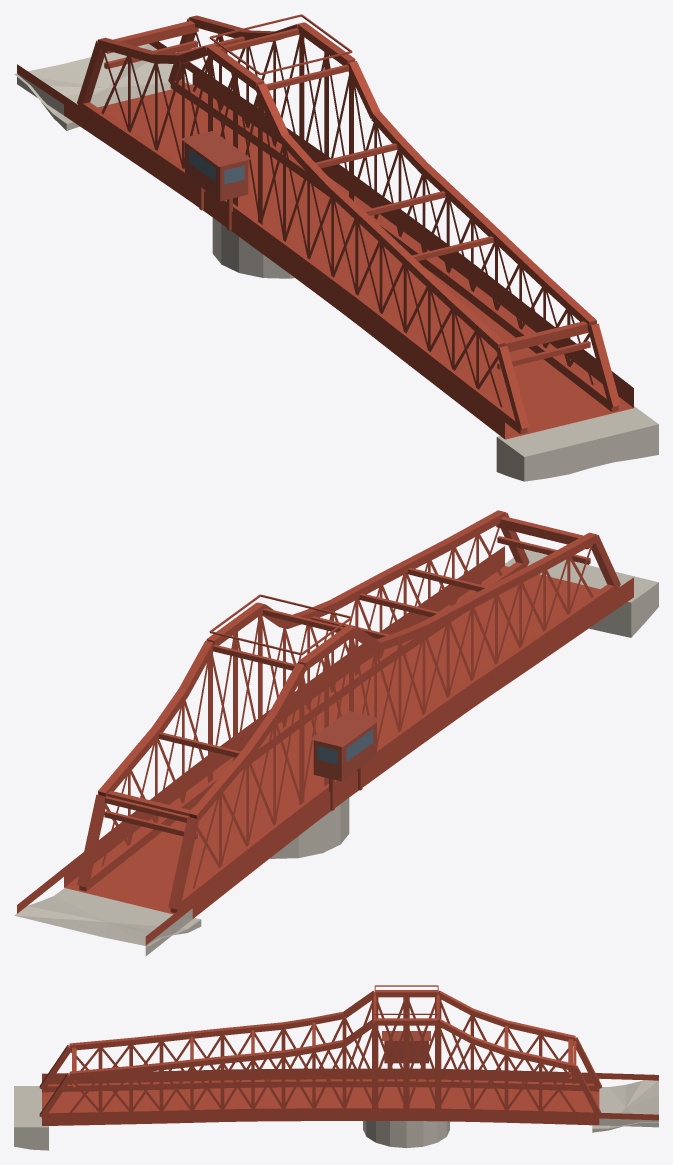
Rendered from cle-center-street-bridge.glb.
The picture shows the model from 3 angles, top to bottom: view 1: azimuth 30°, elevation 25°; view 2: azimuth 150°, elevation 25°; view 3: azimuth 270°, elevation 25°; orthographic projection. The views are drawn at different scales.
Parts seen in each view (by area): view 1: Center Street Swing Bridge; view 2: Center Street Swing Bridge; view 3: Center Street Swing Bridge.
Part boxes in pixels (x1,y1,x2,y2): Center Street Swing Bridge: (14,14,658,481); Center Street Swing Bridge: (14,510,658,956); Center Street Swing Bridge: (14,985,658,1150).
Bounding box in the file's own units: 15.45 × 20.48 × 92.
